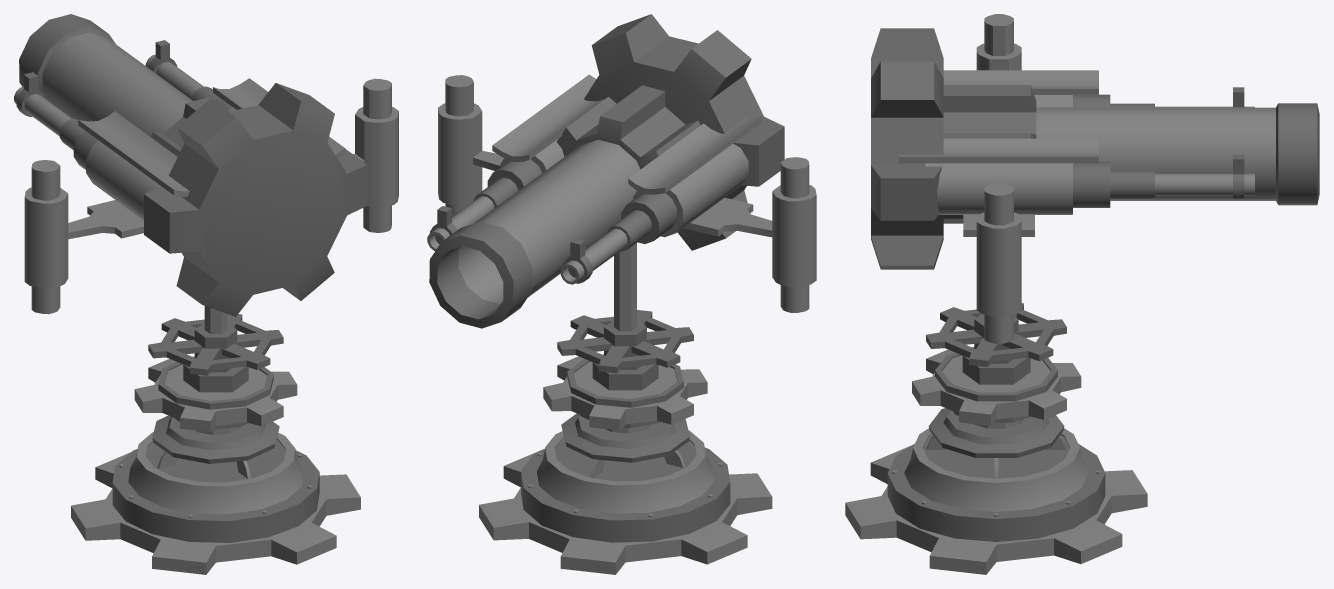
Rendered from wave_force.glb.
The picture shows the model from 3 angles, left to right: view 1: azimuth 30°, elevation 25°; view 2: azimuth 150°, elevation 25°; view 3: azimuth 270°, elevation 25°; orthographic projection. The views are drawn at different scales.
Visible parts, largest first — view 1: Turret, Body; view 2: Turret, Body; view 3: Turret, Body.
Boxes of the visible parts, x1,y1,x2,y2 form: Turret: (14,14,398,392); Body: (71,356,360,574); Turret: (427,14,816,390); Body: (479,356,772,574); Turret: (871,14,1319,384); Body: (845,347,1147,574).
Bounding box in the file's own units: 4.31 × 5 × 4.6.
1 material, 1 textured.
